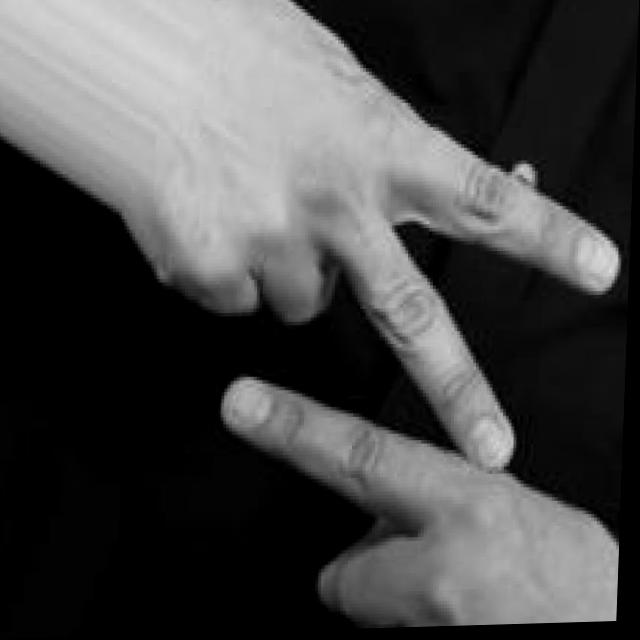Z: (203, 35, 638, 633)
